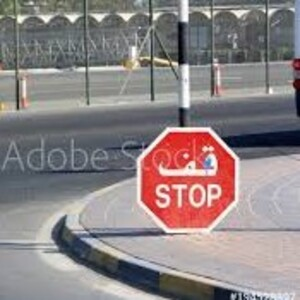stop: (138, 125, 239, 235)
